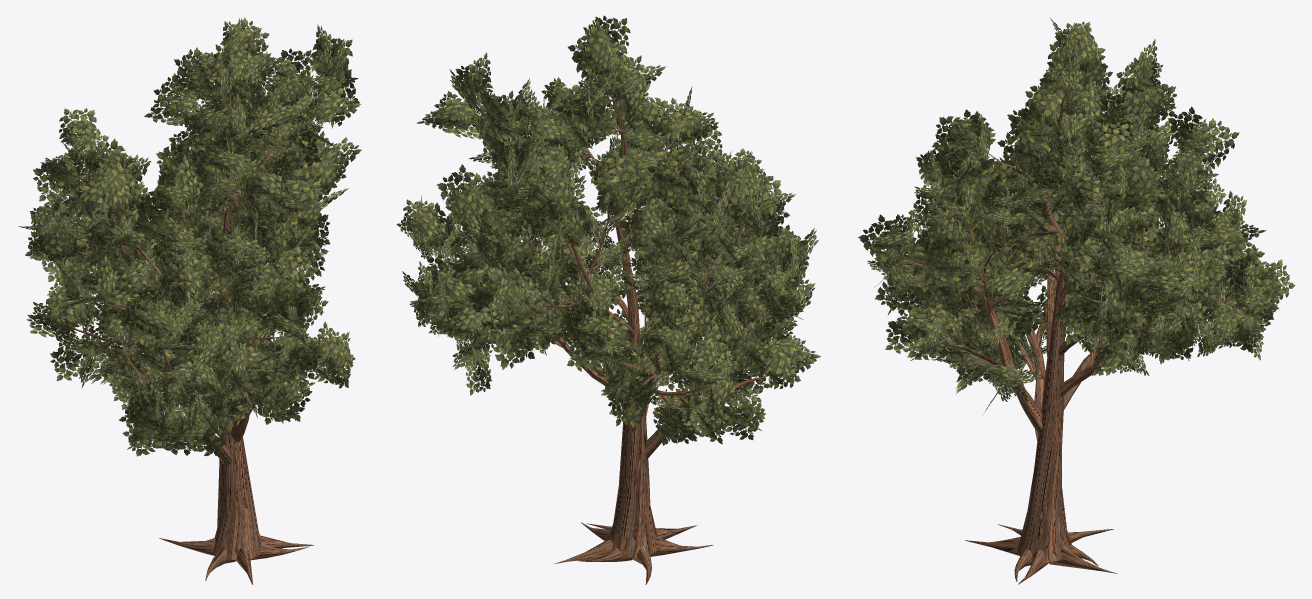
File: tree9.glb
3 views of the same model, side by side, from view 1: azimuth 30°, elevation 25°; view 2: azimuth 150°, elevation 25°; view 3: azimuth 270°, elevation 25° (orthographic). The views are drawn at different scales.
Visible parts, largest first — view 1: tree9_Medium, tree9_LowMesh; view 2: tree9_Medium, tree9_LowMesh; view 3: tree9_Medium, tree9_LowMesh.
Part boxes in pixels (x1,y1,x2,y2): tree9_Medium: (18, 17, 359, 584); tree9_LowMesh: (21, 21, 361, 583); tree9_Medium: (396, 15, 820, 584); tree9_LowMesh: (402, 23, 818, 584); tree9_Medium: (858, 18, 1285, 584); tree9_LowMesh: (863, 27, 1294, 581).
Bounding box in the file's own units: 43.93 × 65.4 × 47.58.
4 materials, 4 textured.
